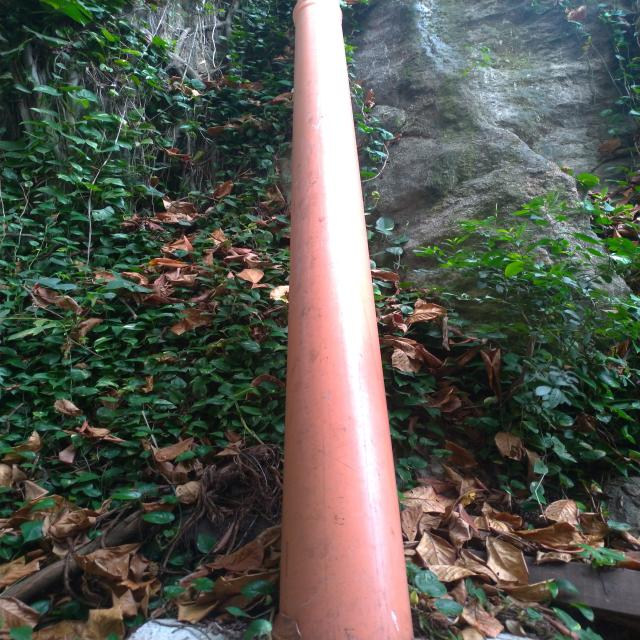gas: (271, 0, 416, 638)
